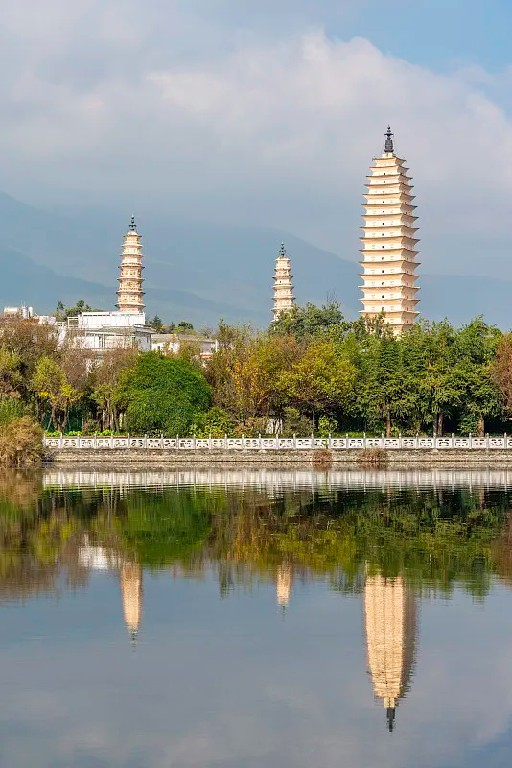ThreePagoda: (357, 126, 422, 338)
